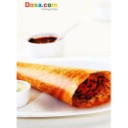dosa: (18, 61, 110, 108)
